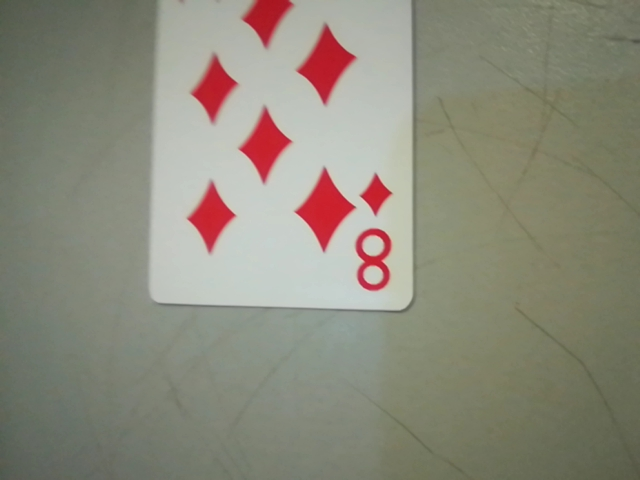fk 8: (346, 165, 407, 303)
